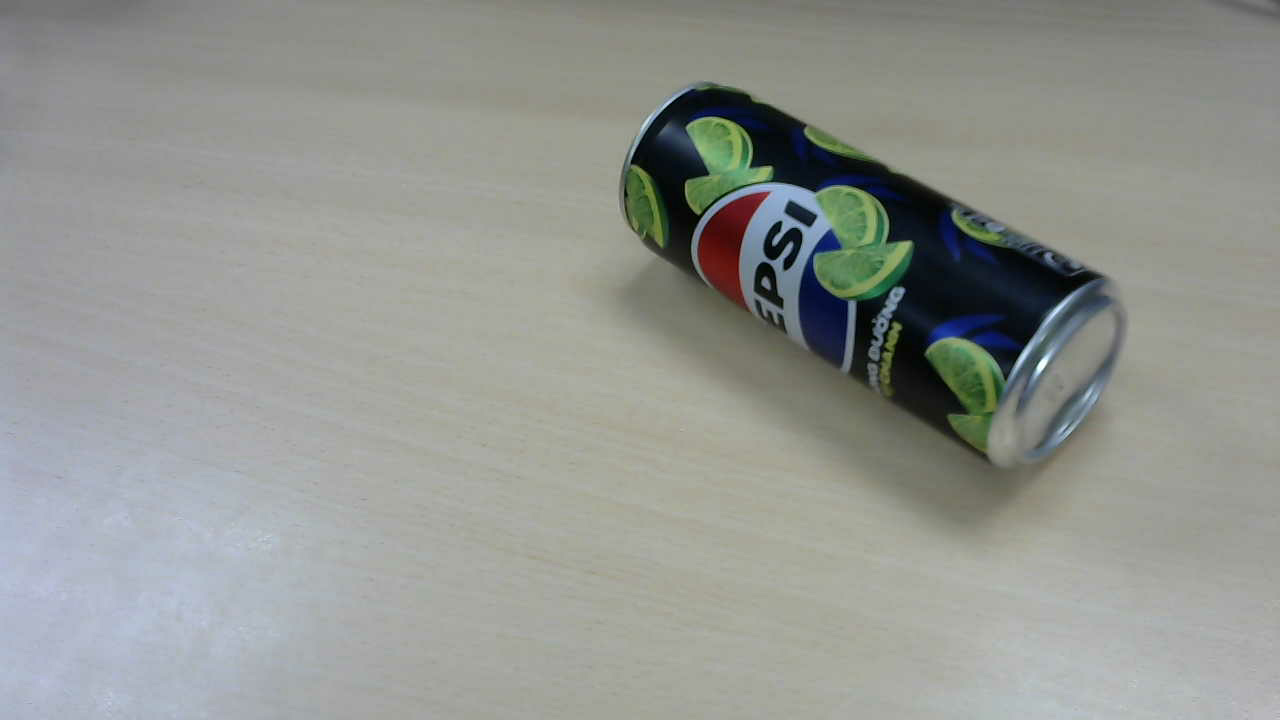Pepsi: (605, 87, 1136, 489)
